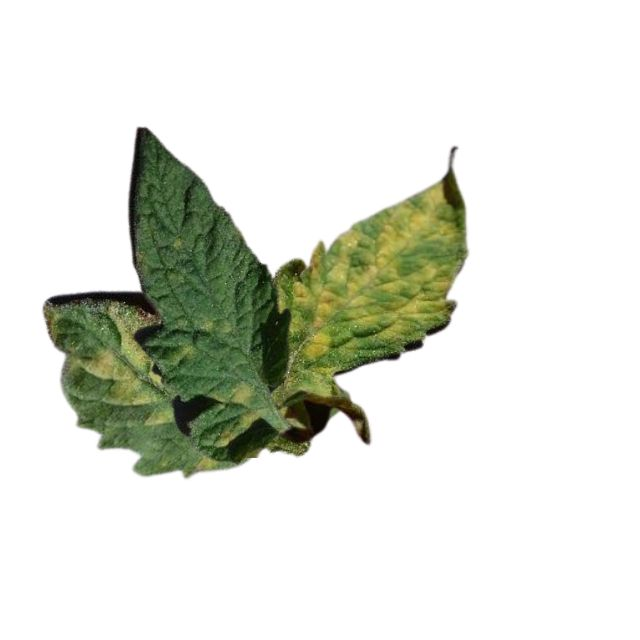Leaf_Mold: (280, 168, 469, 397), (85, 305, 177, 428), (207, 385, 257, 407), (236, 407, 265, 427), (192, 451, 218, 473), (212, 426, 235, 446)
